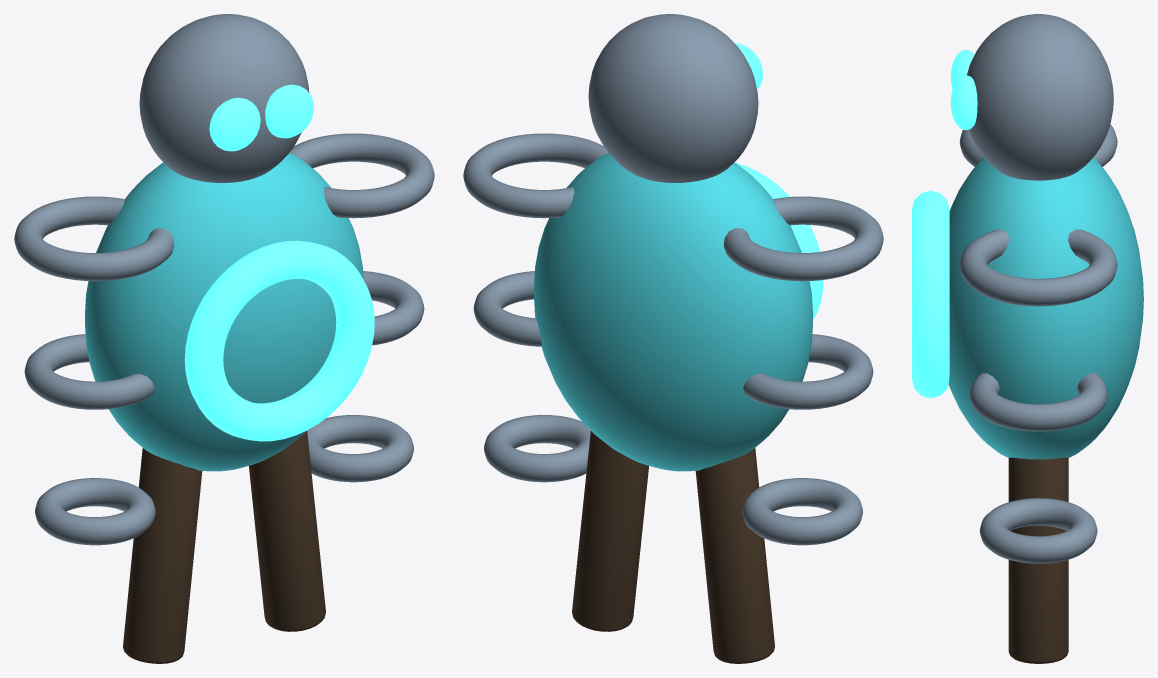
The model's file is construct_v3.glb.
3 views of the same model, side by side, from view 1: azimuth 30°, elevation 25°; view 2: azimuth 150°, elevation 25°; view 3: azimuth 270°, elevation 25° (orthographic). The views are drawn at different scales.
Visible parts, largest first — view 1: CLOCKWORK_TORSO_ACCENT, CHEST_GEAR_EMISSIVE, CLOCKWORK_HEAD_PRIMARY, CLOCKWORK_LEG_SECONDARY, CLOCKWORK_LEG_SECONDARY.001, GEAR_JOINT_PRIMARY, GEAR_JOINT_PRIMARY.003, GEAR_JOINT_PRIMARY.002, GEAR_JOINT_PRIMARY.005, GEAR_JOINT_PRIMARY.001, GEAR_JOINT_PRIMARY.004, EYE_EMISSIVE (+1 smaller); view 2: CLOCKWORK_TORSO_ACCENT, CLOCKWORK_HEAD_PRIMARY, CLOCKWORK_LEG_SECONDARY, CLOCKWORK_LEG_SECONDARY.001, GEAR_JOINT_PRIMARY, GEAR_JOINT_PRIMARY.003, GEAR_JOINT_PRIMARY.002, GEAR_JOINT_PRIMARY.005, GEAR_JOINT_PRIMARY.001, GEAR_JOINT_PRIMARY.004, CHEST_GEAR_EMISSIVE; view 3: CLOCKWORK_TORSO_ACCENT, CLOCKWORK_HEAD_PRIMARY, CLOCKWORK_LEG_SECONDARY.001, CHEST_GEAR_EMISSIVE, GEAR_JOINT_PRIMARY.003, GEAR_JOINT_PRIMARY.005, GEAR_JOINT_PRIMARY.004, EYE_EMISSIVE.001, GEAR_JOINT_PRIMARY, EYE_EMISSIVE.
Boxes of the visible parts, bbox=[...] form: CLOCKWORK_TORSO_ACCENT: bbox=[85, 152, 363, 471]; CHEST_GEAR_EMISSIVE: bbox=[184, 240, 374, 441]; CLOCKWORK_HEAD_PRIMARY: bbox=[139, 14, 309, 182]; CLOCKWORK_LEG_SECONDARY: bbox=[123, 448, 202, 663]; CLOCKWORK_LEG_SECONDARY.001: bbox=[249, 431, 325, 631]; GEAR_JOINT_PRIMARY: bbox=[14, 196, 174, 281]; GEAR_JOINT_PRIMARY.003: bbox=[290, 133, 434, 218]; GEAR_JOINT_PRIMARY.002: bbox=[35, 478, 155, 545]; GEAR_JOINT_PRIMARY.005: bbox=[307, 415, 413, 482]; GEAR_JOINT_PRIMARY.001: bbox=[24, 334, 154, 409]; GEAR_JOINT_PRIMARY.004: bbox=[363, 271, 424, 345]; EYE_EMISSIVE: bbox=[209, 97, 260, 151]; CLOCKWORK_TORSO_ACCENT: bbox=[534, 152, 812, 471]; CLOCKWORK_HEAD_PRIMARY: bbox=[588, 14, 758, 182]; CLOCKWORK_LEG_SECONDARY: bbox=[695, 448, 774, 663]; CLOCKWORK_LEG_SECONDARY.001: bbox=[572, 431, 648, 631]; GEAR_JOINT_PRIMARY: bbox=[723, 196, 883, 281]; GEAR_JOINT_PRIMARY.003: bbox=[463, 133, 607, 218]; GEAR_JOINT_PRIMARY.002: bbox=[742, 478, 862, 545]; GEAR_JOINT_PRIMARY.005: bbox=[484, 415, 590, 482]; GEAR_JOINT_PRIMARY.001: bbox=[743, 334, 873, 409]; GEAR_JOINT_PRIMARY.004: bbox=[473, 271, 542, 346]; CHEST_GEAR_EMISSIVE: bbox=[736, 163, 823, 319]; CLOCKWORK_TORSO_ACCENT: bbox=[948, 157, 1143, 459]; CLOCKWORK_HEAD_PRIMARY: bbox=[967, 14, 1113, 180]; CLOCKWORK_LEG_SECONDARY.001: bbox=[1008, 457, 1068, 663]; CHEST_GEAR_EMISSIVE: bbox=[912, 190, 949, 398]; GEAR_JOINT_PRIMARY.003: bbox=[959, 229, 1117, 306]; GEAR_JOINT_PRIMARY.005: bbox=[979, 498, 1097, 563]; GEAR_JOINT_PRIMARY.004: bbox=[969, 373, 1107, 431]; EYE_EMISSIVE.001: bbox=[950, 75, 977, 129]; GEAR_JOINT_PRIMARY: bbox=[959, 124, 1117, 166]; EYE_EMISSIVE: bbox=[950, 50, 974, 89].
Bounding box in the file's own units: 1.47 × 2.17 × 0.7585.
